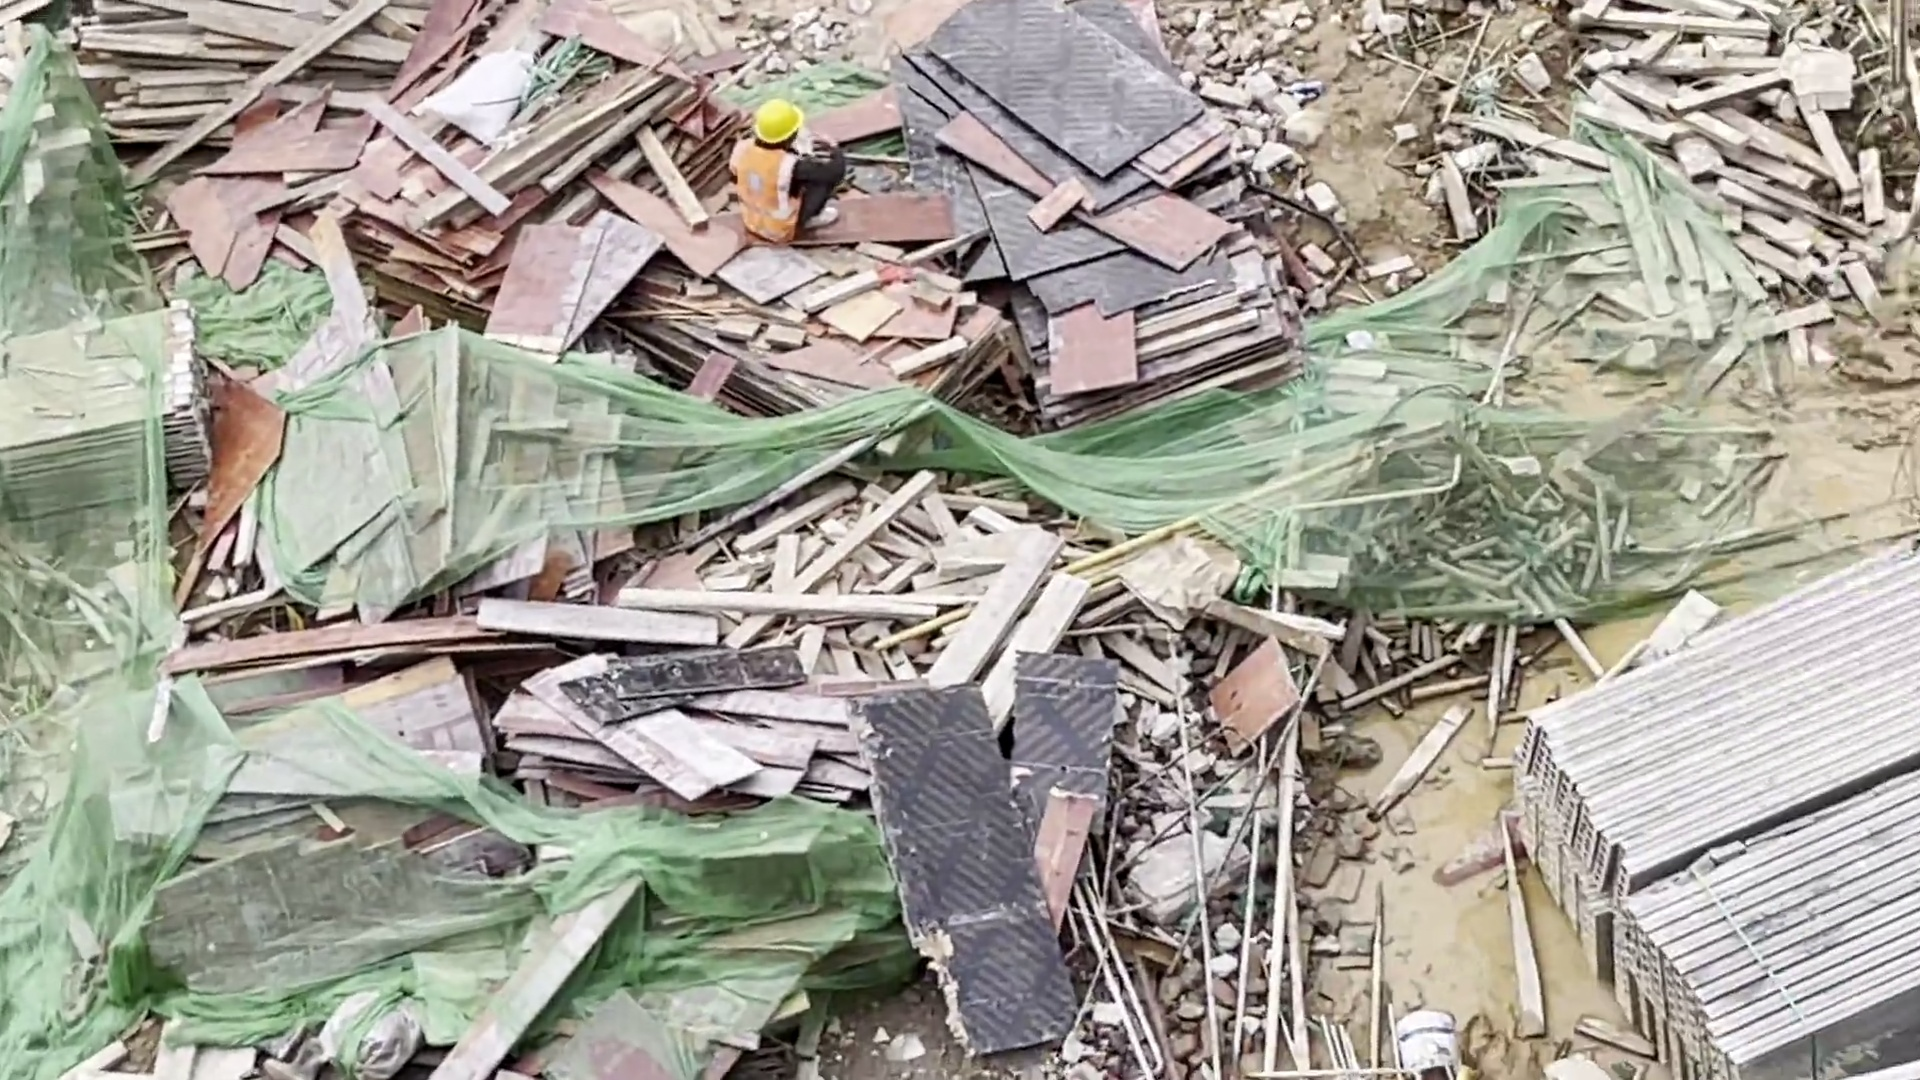helmet: (752, 101, 807, 146)
person: (728, 100, 852, 245)
vest: (737, 137, 804, 237)
